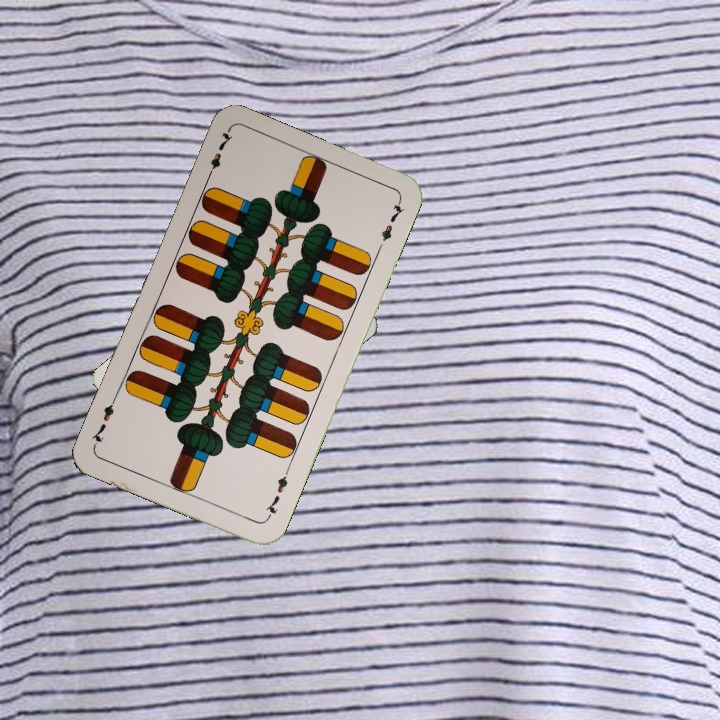E7: (202, 126, 236, 183), (261, 465, 292, 522)
